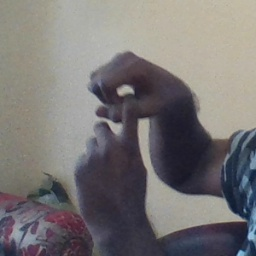Q: (68, 46, 176, 204)
